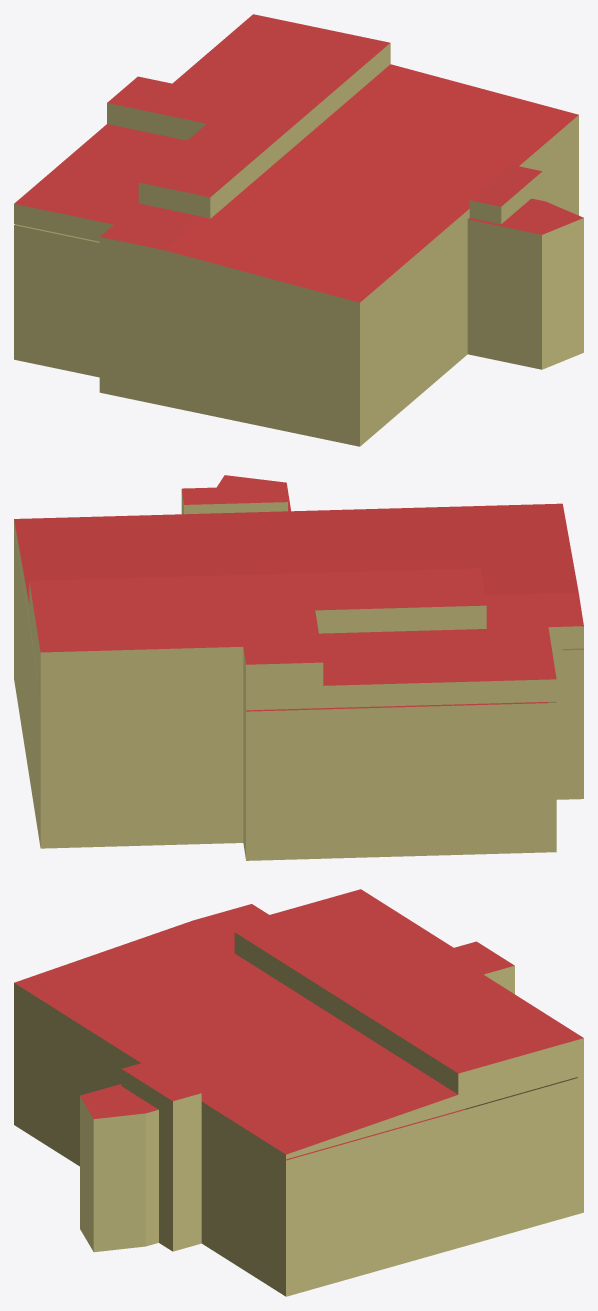
3 renders of one model, top to bottom at view 1: azimuth 30°, elevation 25°; view 2: azimuth 150°, elevation 25°; view 3: azimuth 270°, elevation 25°, orthographic. The views are drawn at different scales.
Size of the model in its own units: 47.35 by 44.93 by 15.18.
